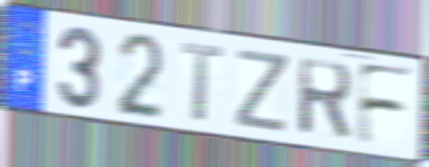2: (116, 30, 166, 121)
3: (55, 24, 102, 112)
F: (353, 59, 418, 149)
R: (296, 56, 355, 144)
T: (180, 41, 227, 125)
Z: (233, 45, 293, 136)
